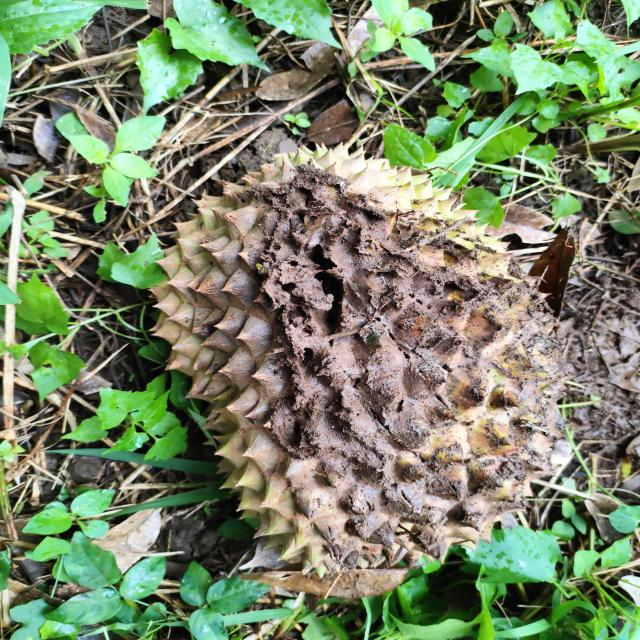defective: (147, 143, 578, 588)
